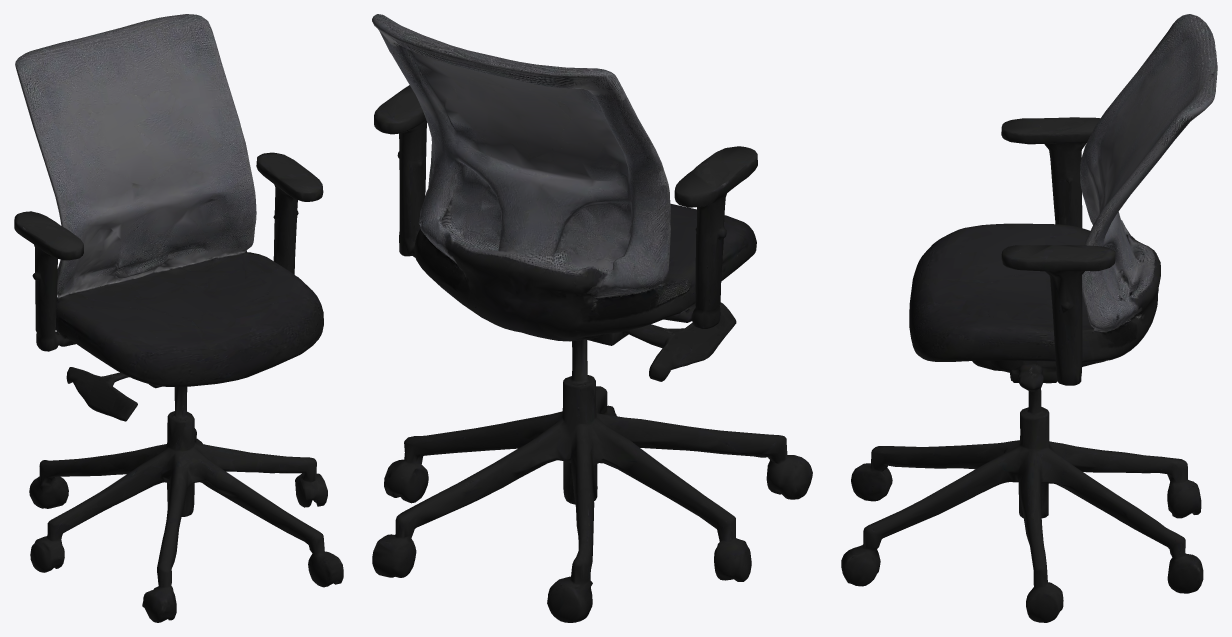
File: chair.glb
3 renders of one model, left to right at view 1: azimuth 30°, elevation 25°; view 2: azimuth 150°, elevation 25°; view 3: azimuth 270°, elevation 25°, orthographic. The views are drawn at different scales.
Bounding box in the file's own units: 1.35 × 2.01 × 1.41.
1 material, 1 textured.
